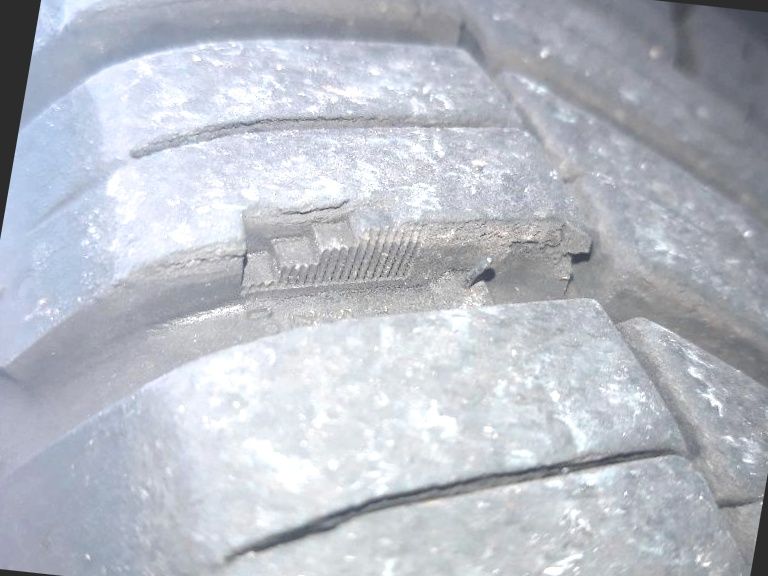temoin:80: (213, 164, 445, 324)
